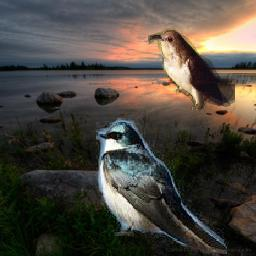Cuckoo: (149, 28, 236, 110)
Swallow: (97, 118, 228, 254)
